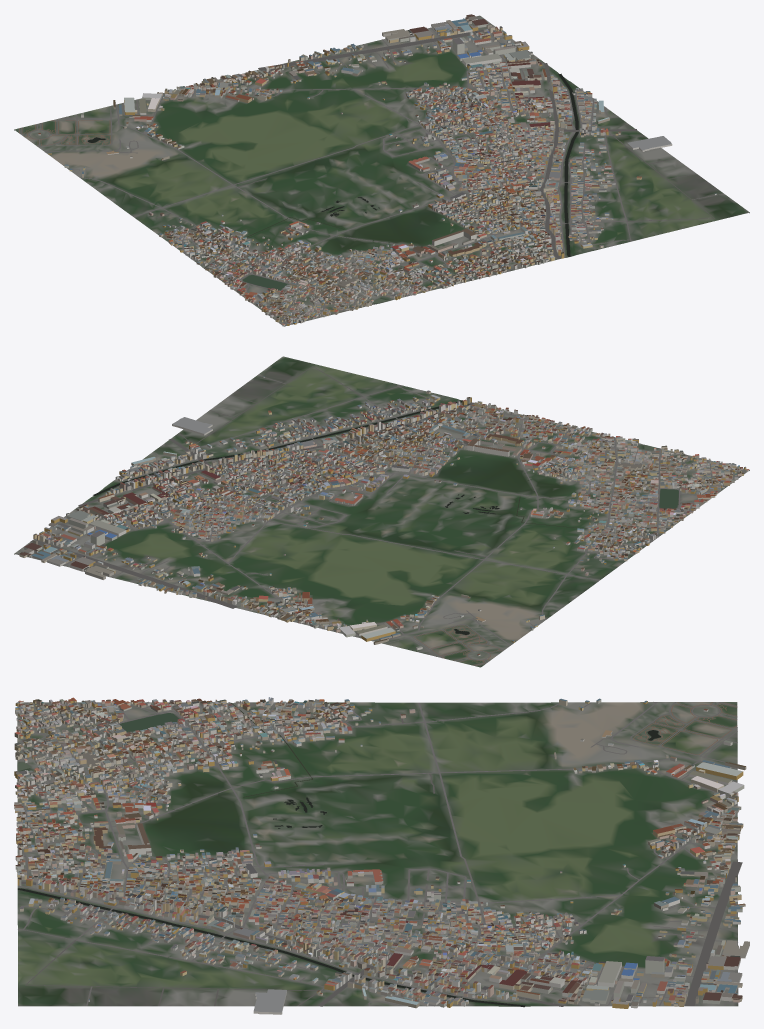
The picture shows the model from 3 angles, top to bottom: view 1: azimuth 30°, elevation 25°; view 2: azimuth 150°, elevation 25°; view 3: azimuth 270°, elevation 25°; orthographic projection. The views are drawn at different scales.
Parts seen in each view (by area): view 1: ground, buildings, roads, water; view 2: ground, buildings, roads, water; view 3: ground, buildings, roads, water.
Part boxes in pixels (x1,y1,x2,y2): ground: (14, 15, 749, 326); buildings: (38, 14, 716, 326); roads: (19, 17, 723, 325); water: (88, 73, 578, 303); ground: (14, 356, 749, 667); buildings: (19, 376, 749, 656); roads: (18, 366, 746, 666); water: (93, 400, 678, 634); ground: (17, 702, 738, 1006); buildings: (14, 697, 749, 1014); roads: (17, 702, 742, 1006); water: (17, 702, 660, 1007).
Size of the model in its own units: 1444 by 32.62 by 1433.
